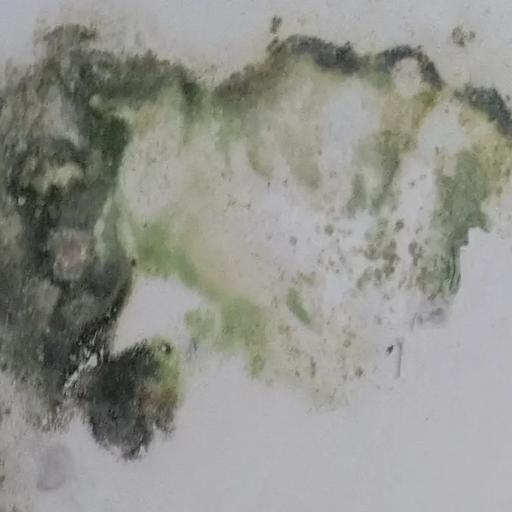algae: (0, 20, 512, 456)
